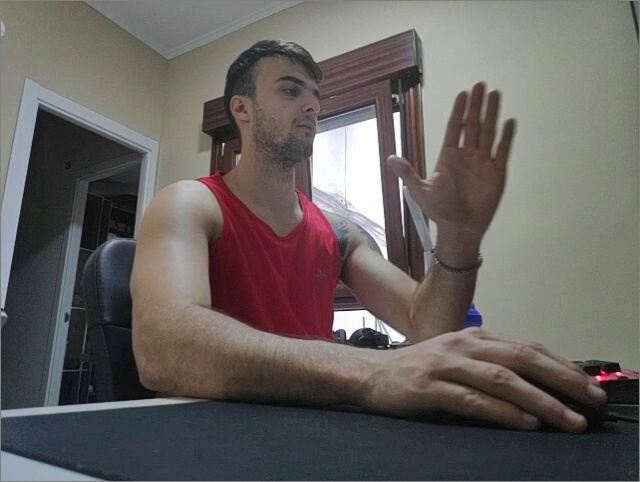Palm: (387, 76, 520, 235)
